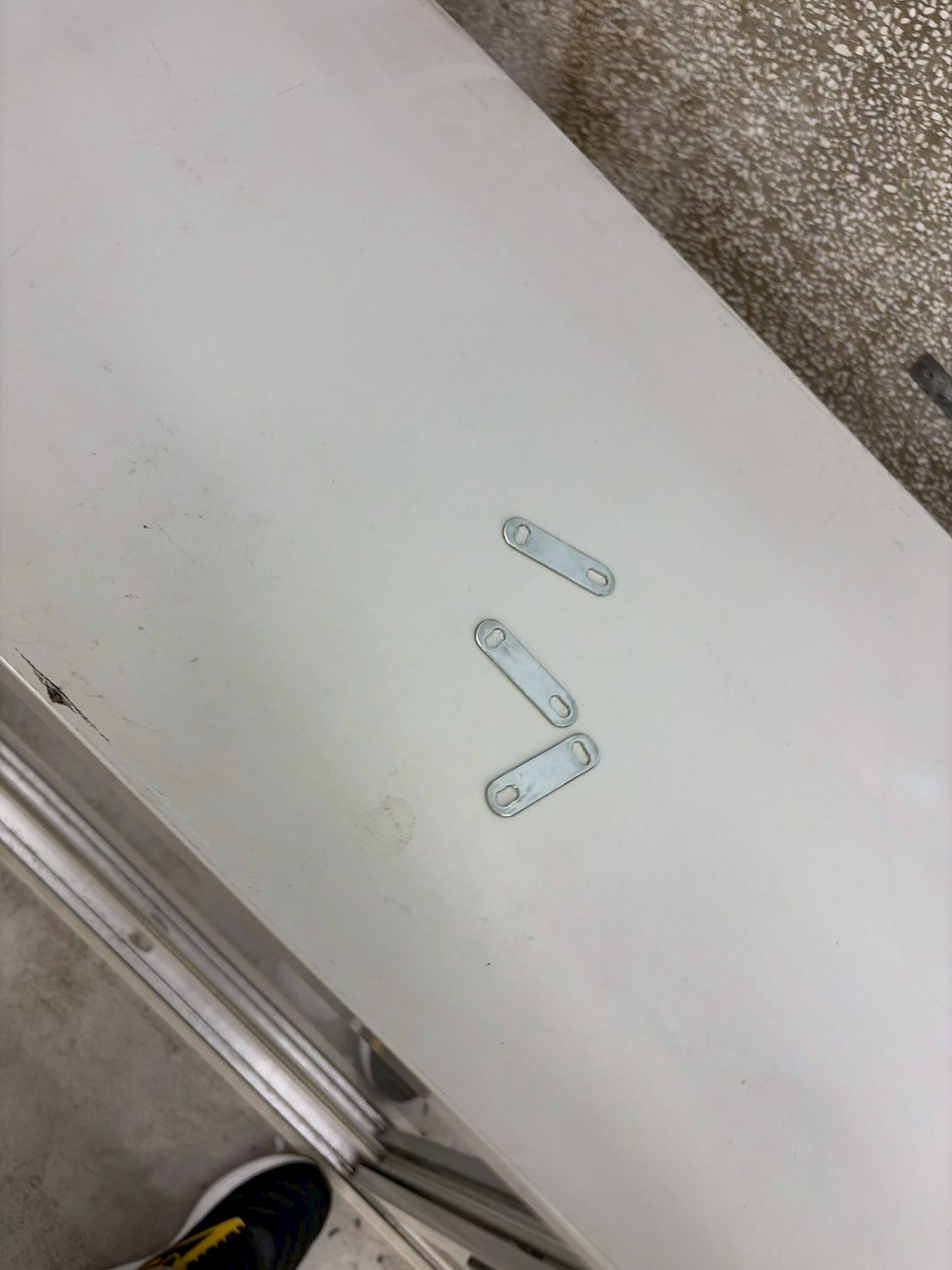Fe: (485, 501, 619, 597), (464, 620, 579, 726), (471, 730, 600, 822)
